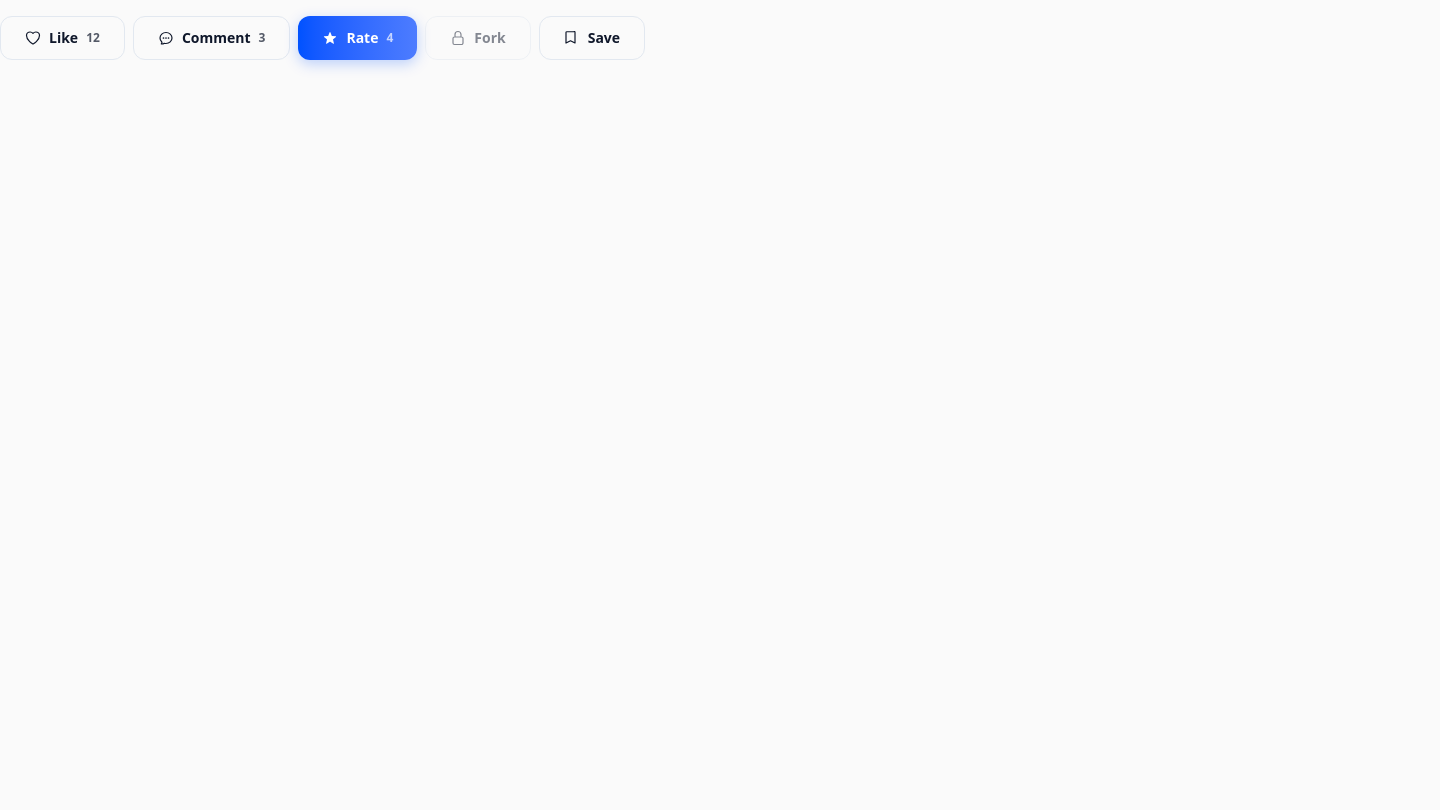
Scenario: publication action toolbar — authenticated (#67) › hosts the #68 star selector in the rate dialog: radiogroup + cumulative fill, no badge/Clear (#74)
What coordinates should you click on to do the following:
click the button with aria-label "Ratings: 4.25 of 5"
I would click on:
 (358, 38)
Its box is x1=298 y1=16 x2=417 y2=60.
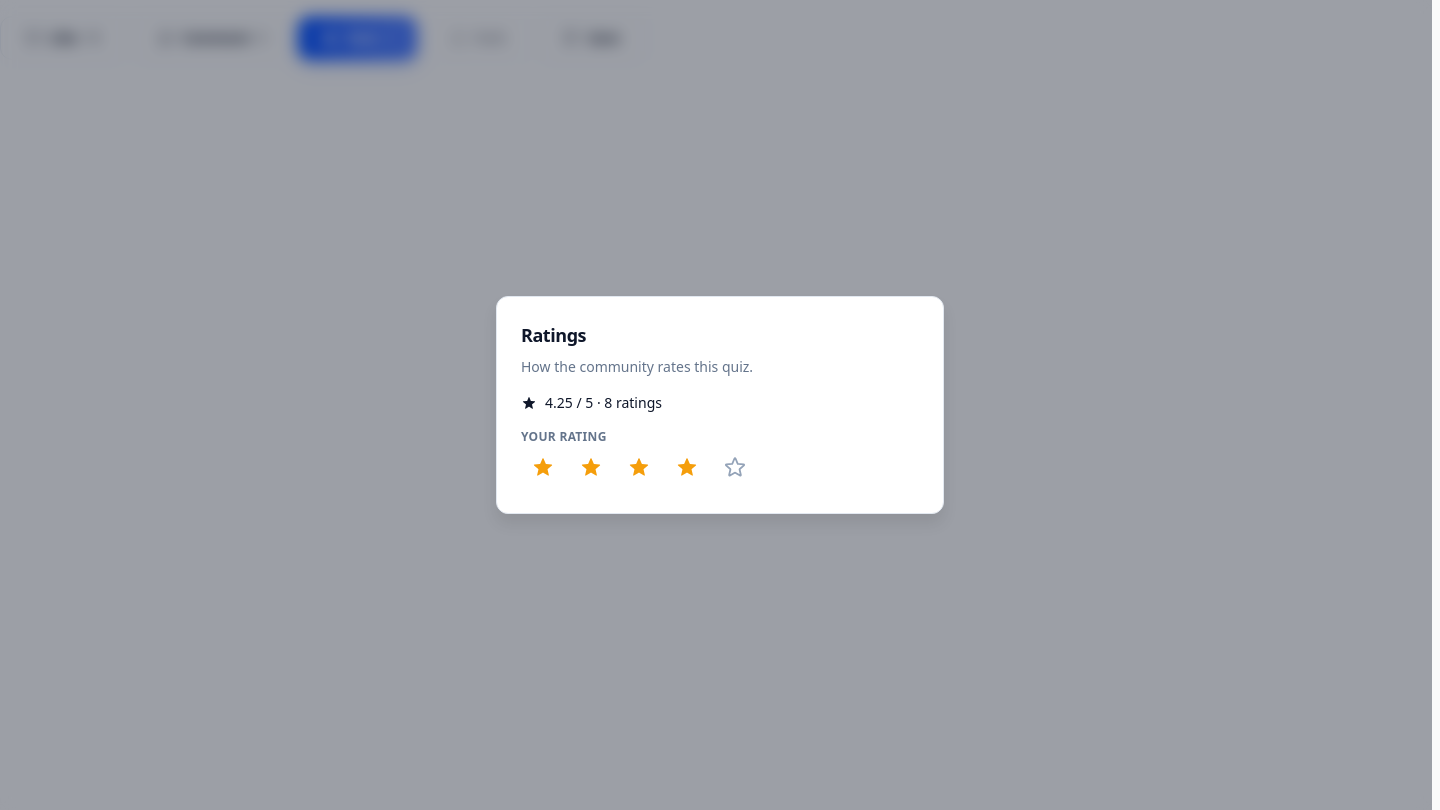
Check: the text "4.25 / 5 · 8 ratings" is shown, box x1=521 y1=393 x2=662 y2=412
Check: the radio button named "4 stars" is shown, box x1=665 y1=445 x2=709 y2=489
